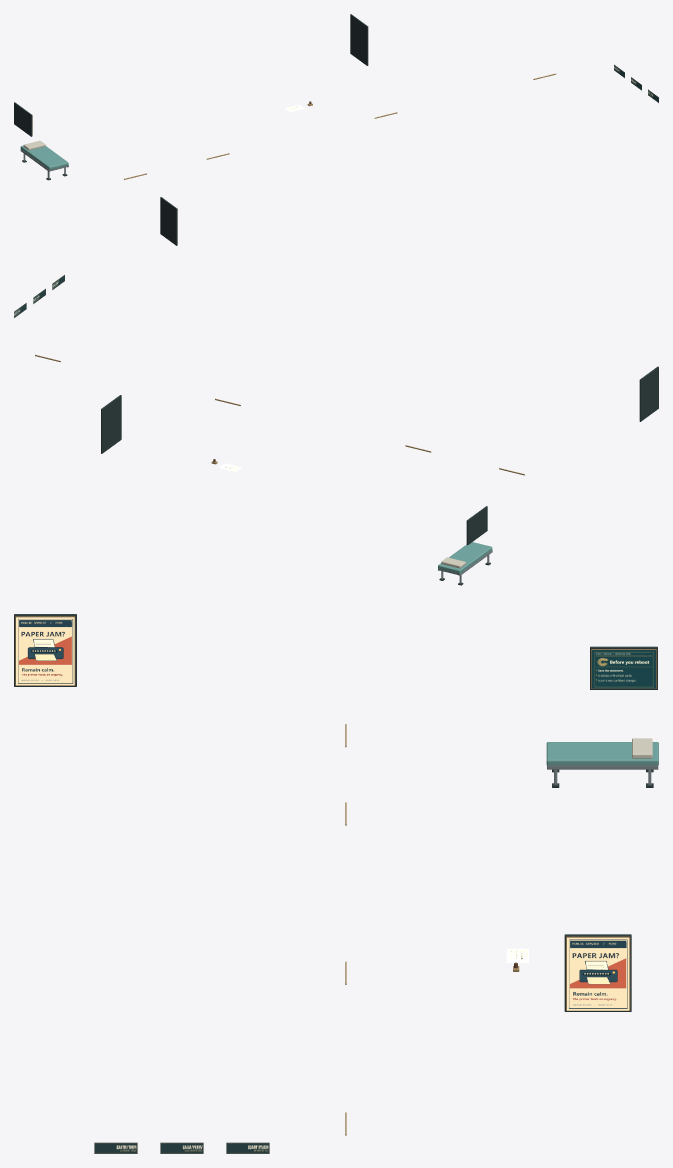
File: police-hardware.glb
The picture shows the model from 3 angles, top to bottom: view 1: azimuth 30°, elevation 25°; view 2: azimuth 150°, elevation 25°; view 3: azimuth 270°, elevation 25°; orthographic projection. The views are drawn at different scales.
Visible parts, largest first — view 1: FCMU_Records office print by briefing door mounting frame, FCMU_Mattress bound edge; view 2: FCMU_Records office print by briefing door mounting frame, FCMU_Mattress bound edge; view 3: FCMU_Records office print, FCMU_Mattress bound edge, FCMU_Recovery bench instructions, FCMU_Records office print by briefing door mounting frame, FCMU_Cot leg pivot.
Part boxes in pixels (<box>): FCMU_Records office print by briefing door mounting frame: <box>14,14,368,245</box>; FCMU_Mattress bound edge: <box>20,101,311,169</box>; FCMU_Records office print by briefing door mounting frame: <box>101,366,658,585</box>; FCMU_Mattress bound edge: <box>213,459,492,573</box>; FCMU_Records office print: <box>16,617,629,1010</box>; FCMU_Mattress bound edge: <box>514,738,658,968</box>; FCMU_Recovery bench instructions: <box>592,650,655,688</box>; FCMU_Records office print by briefing door mounting frame: <box>14,614,657,1011</box>; FCMU_Cot leg pivot: <box>15,616,656,1135</box>.
Size of the model in its own units: 19.69 by 2.81 by 11.24.
Materials: 10 (10 with a texture image).
